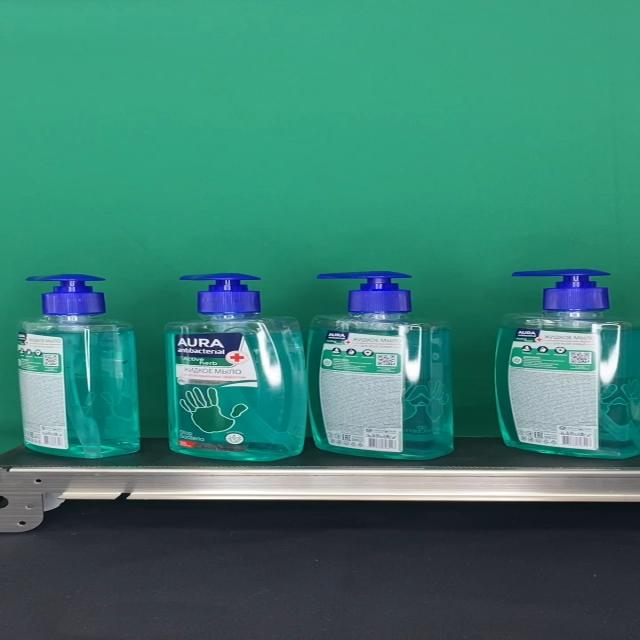Bottle: (307, 271, 454, 460), (496, 269, 640, 459), (165, 272, 307, 460), (18, 274, 139, 458)
Cap: (510, 270, 610, 313), (315, 272, 411, 314), (179, 272, 261, 314), (24, 273, 106, 314)
